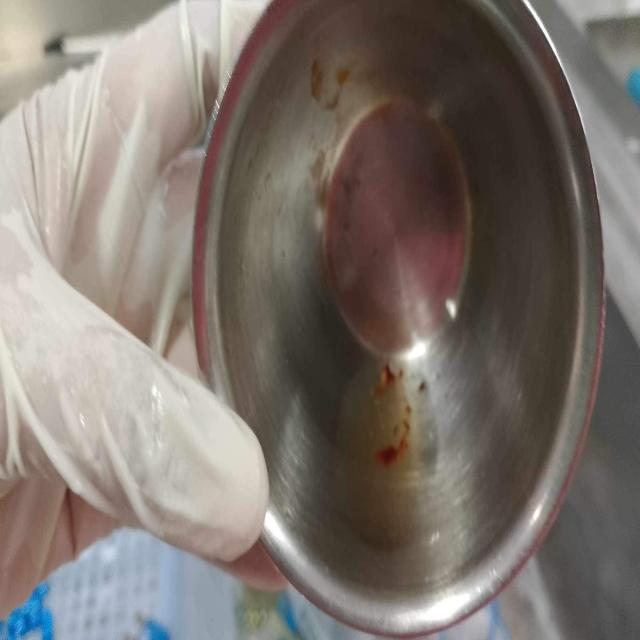General: (187, 1, 608, 636), (318, 92, 473, 360)
Infectious: (1, 0, 284, 618)
